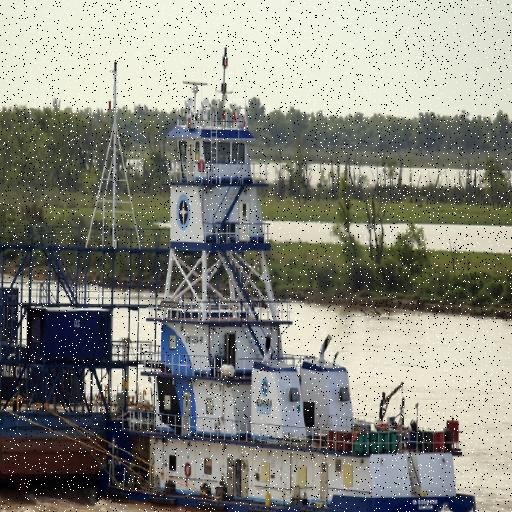tugboat: (104, 78, 484, 512)
